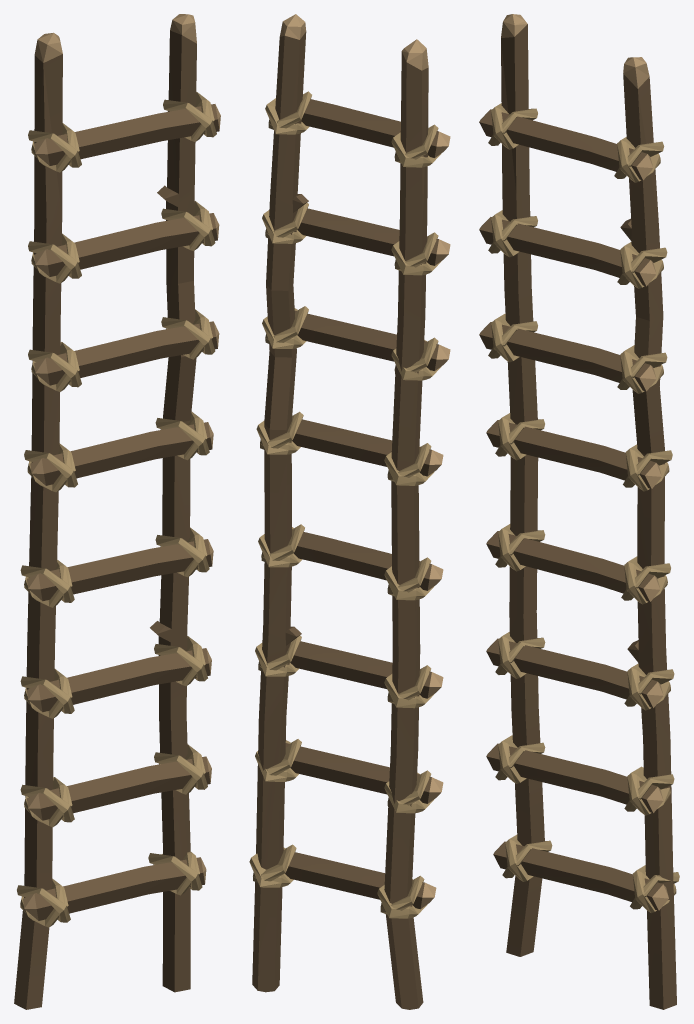
The model's file is Escalera_Larga.glb.
The picture shows the model from 3 angles, left to right: view 1: azimuth 30°, elevation 25°; view 2: azimuth 150°, elevation 25°; view 3: azimuth 330°, elevation 25°; orthographic projection. The views are drawn at different scales.
Visible parts, largest first — view 1: SM_Prop_Ladder_01; view 2: SM_Prop_Ladder_01; view 3: SM_Prop_Ladder_01.
Boxes of the visible parts, box(x1,y1,x2,y2) form: SM_Prop_Ladder_01: box(14, 14, 220, 1009); SM_Prop_Ladder_01: box(249, 14, 450, 1009); SM_Prop_Ladder_01: box(479, 14, 679, 1009).
Size of the model in its own units: 0.9437 by 4.96 by 0.4695.
Materials: 1 (1 with a texture image).
